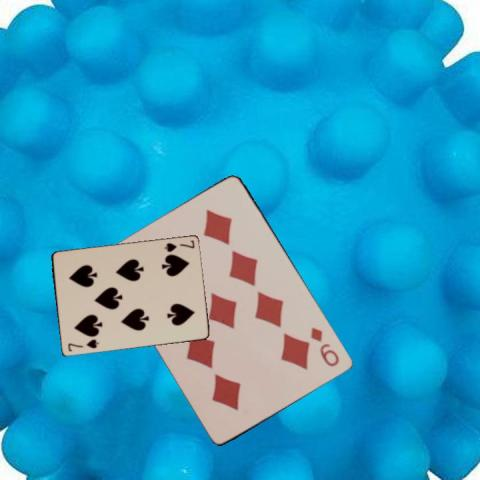7s: (65, 336, 100, 352), (162, 238, 196, 254)
9d: (308, 324, 341, 369)
